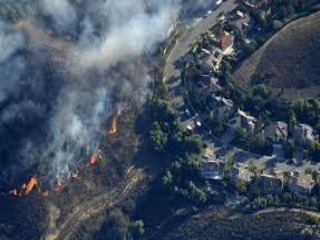fire: (12, 176, 43, 195), (108, 109, 125, 136), (88, 150, 103, 167)
smoke: (51, 4, 185, 77), (13, 79, 86, 169)
